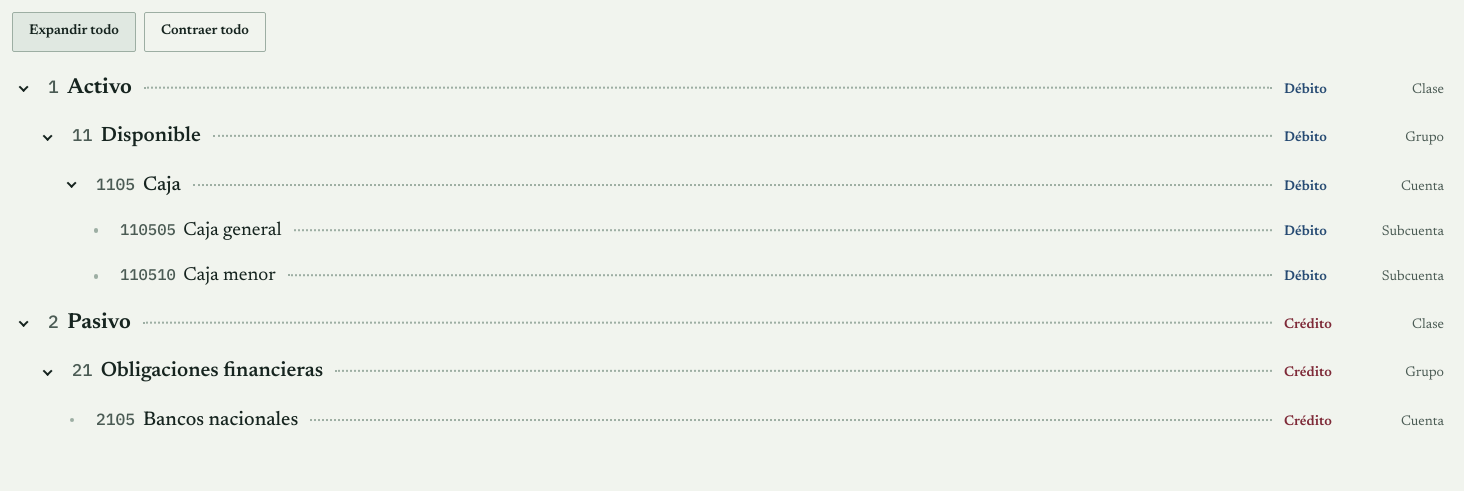
Scenario: AccountTree › actions › offers actions only for the active account
Check: the button "Eliminar" is not shown
Click the text "Caja general". click: (232, 231)
box: [183,216,282,246]
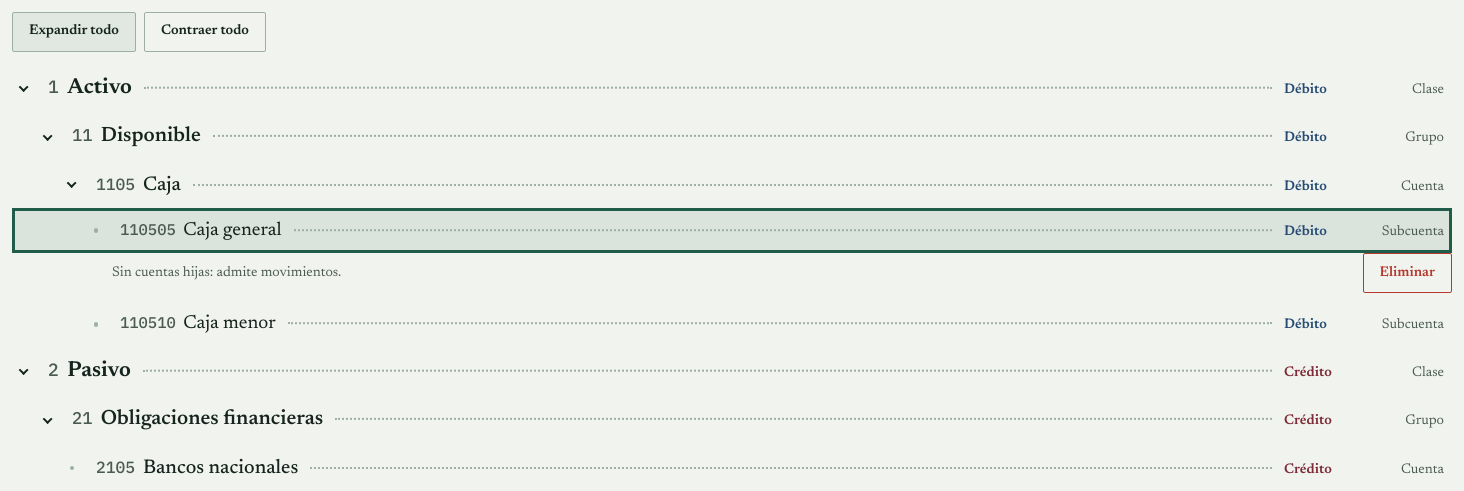
Check: the number of buttons "Eliminar" is 1, box [1363,254,1452,294]
